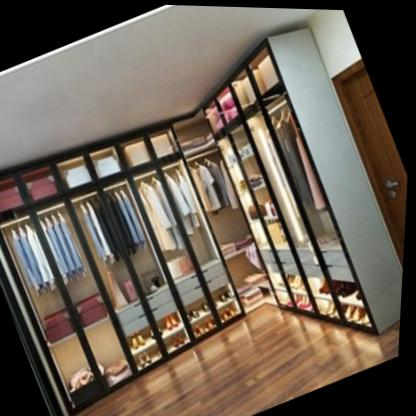Transparent Closet: (0, 126, 263, 410), (207, 20, 406, 333)
